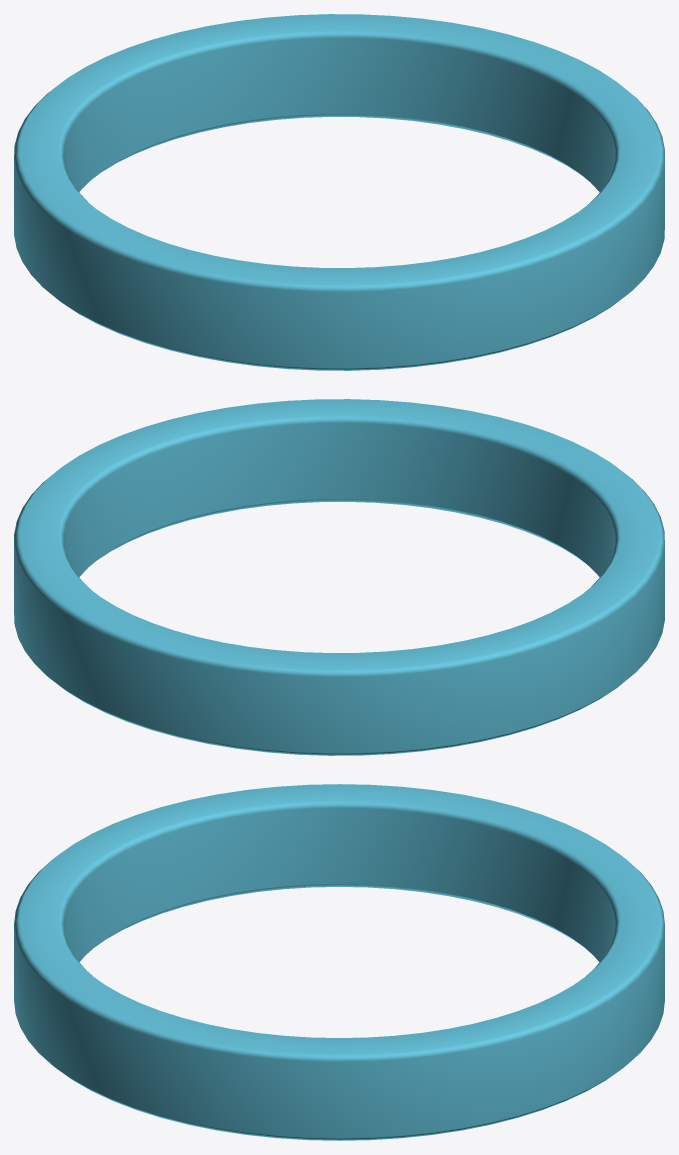
3 renders of one model, top to bottom at view 1: azimuth 30°, elevation 25°; view 2: azimuth 150°, elevation 25°; view 3: azimuth 270°, elevation 25°, orthographic.
Parts seen in each view (by area): view 1: seal_body; view 2: seal_body; view 3: seal_body.
Boxes of the visible parts, x1,y1,x2,y2 form: seal_body: [14, 14, 664, 370]; seal_body: [14, 399, 664, 755]; seal_body: [14, 784, 664, 1140].
Bounding box in the file's own units: 0.065 × 0.00952 × 0.065.
